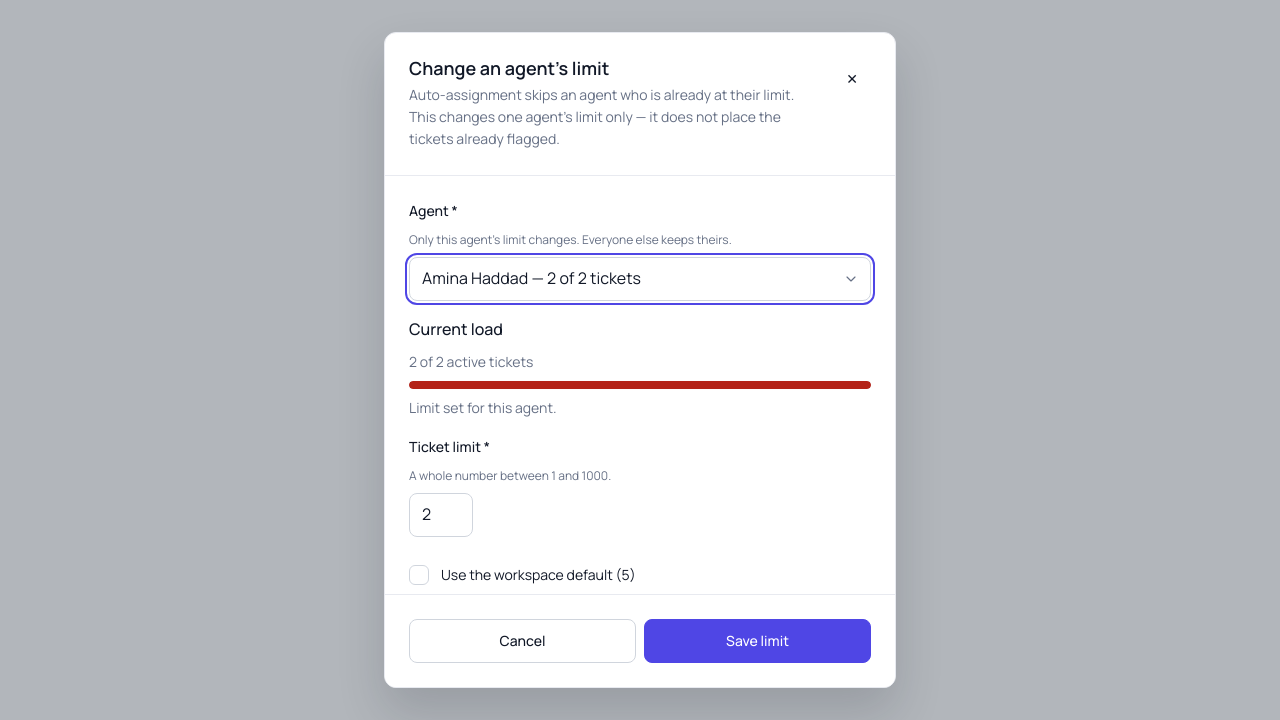
Test: AgentCapacityDialog › lets the supervisor out of a missing-agent refusal by picking another agent
Replace the text in the number field labelled "Ticket limit *" with "4" at (441, 515), box [409,493,473,537]
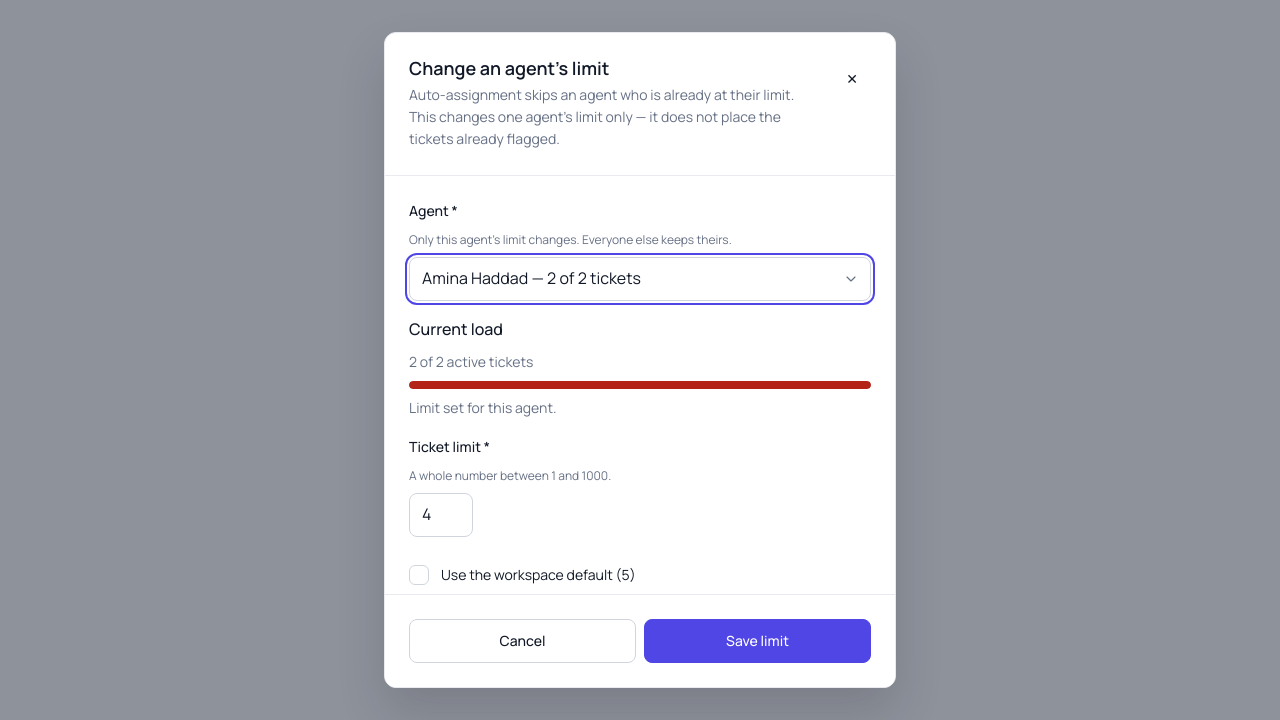
Click the button "Save limit".
click(758, 641)  # box [644,619,871,663]
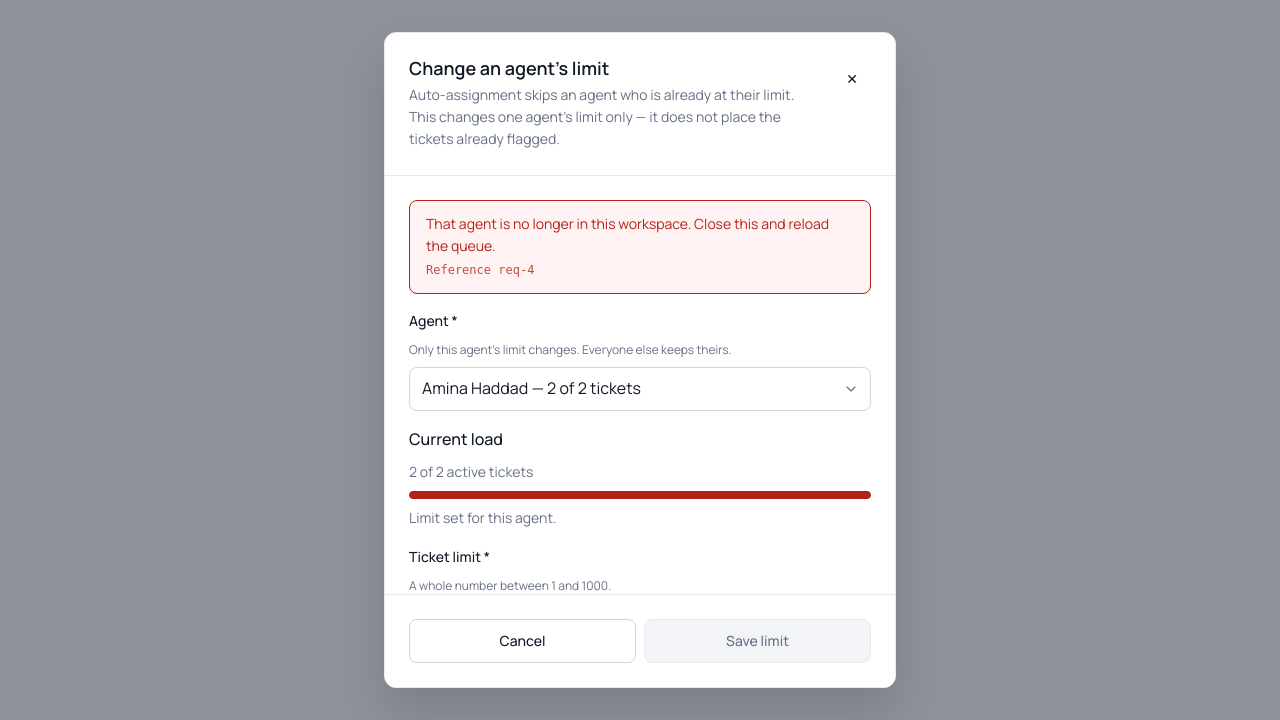
Now the text "That agent is no longer in this workspace. Close this and reload the queue." is shown, box [426,213,854,258]
Select "Liang Wei — 1 of 5 tickets" in the dropdown labelled "Agent *" at (640, 389), box [409,367,871,411]
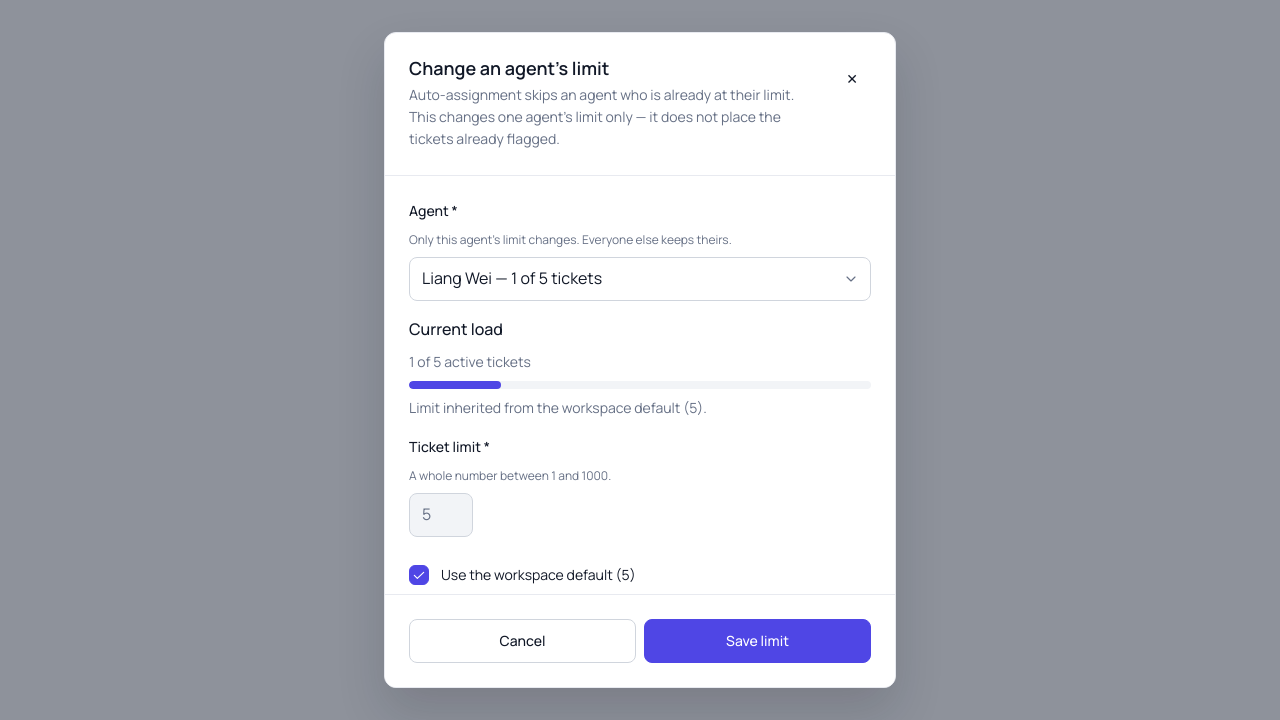
Now the text "That agent is no longer in this workspace. Close this and reload the queue." is gone
Now the button "Save limit" is enabled, box [644,619,871,663]
